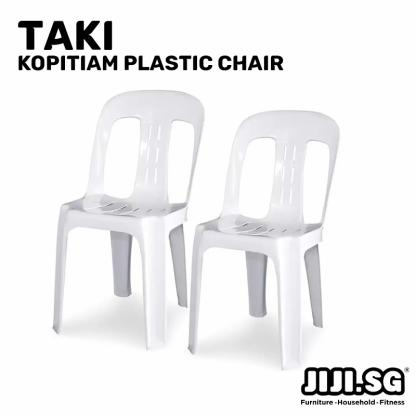chair: (38, 90, 204, 354), (190, 89, 334, 368)
